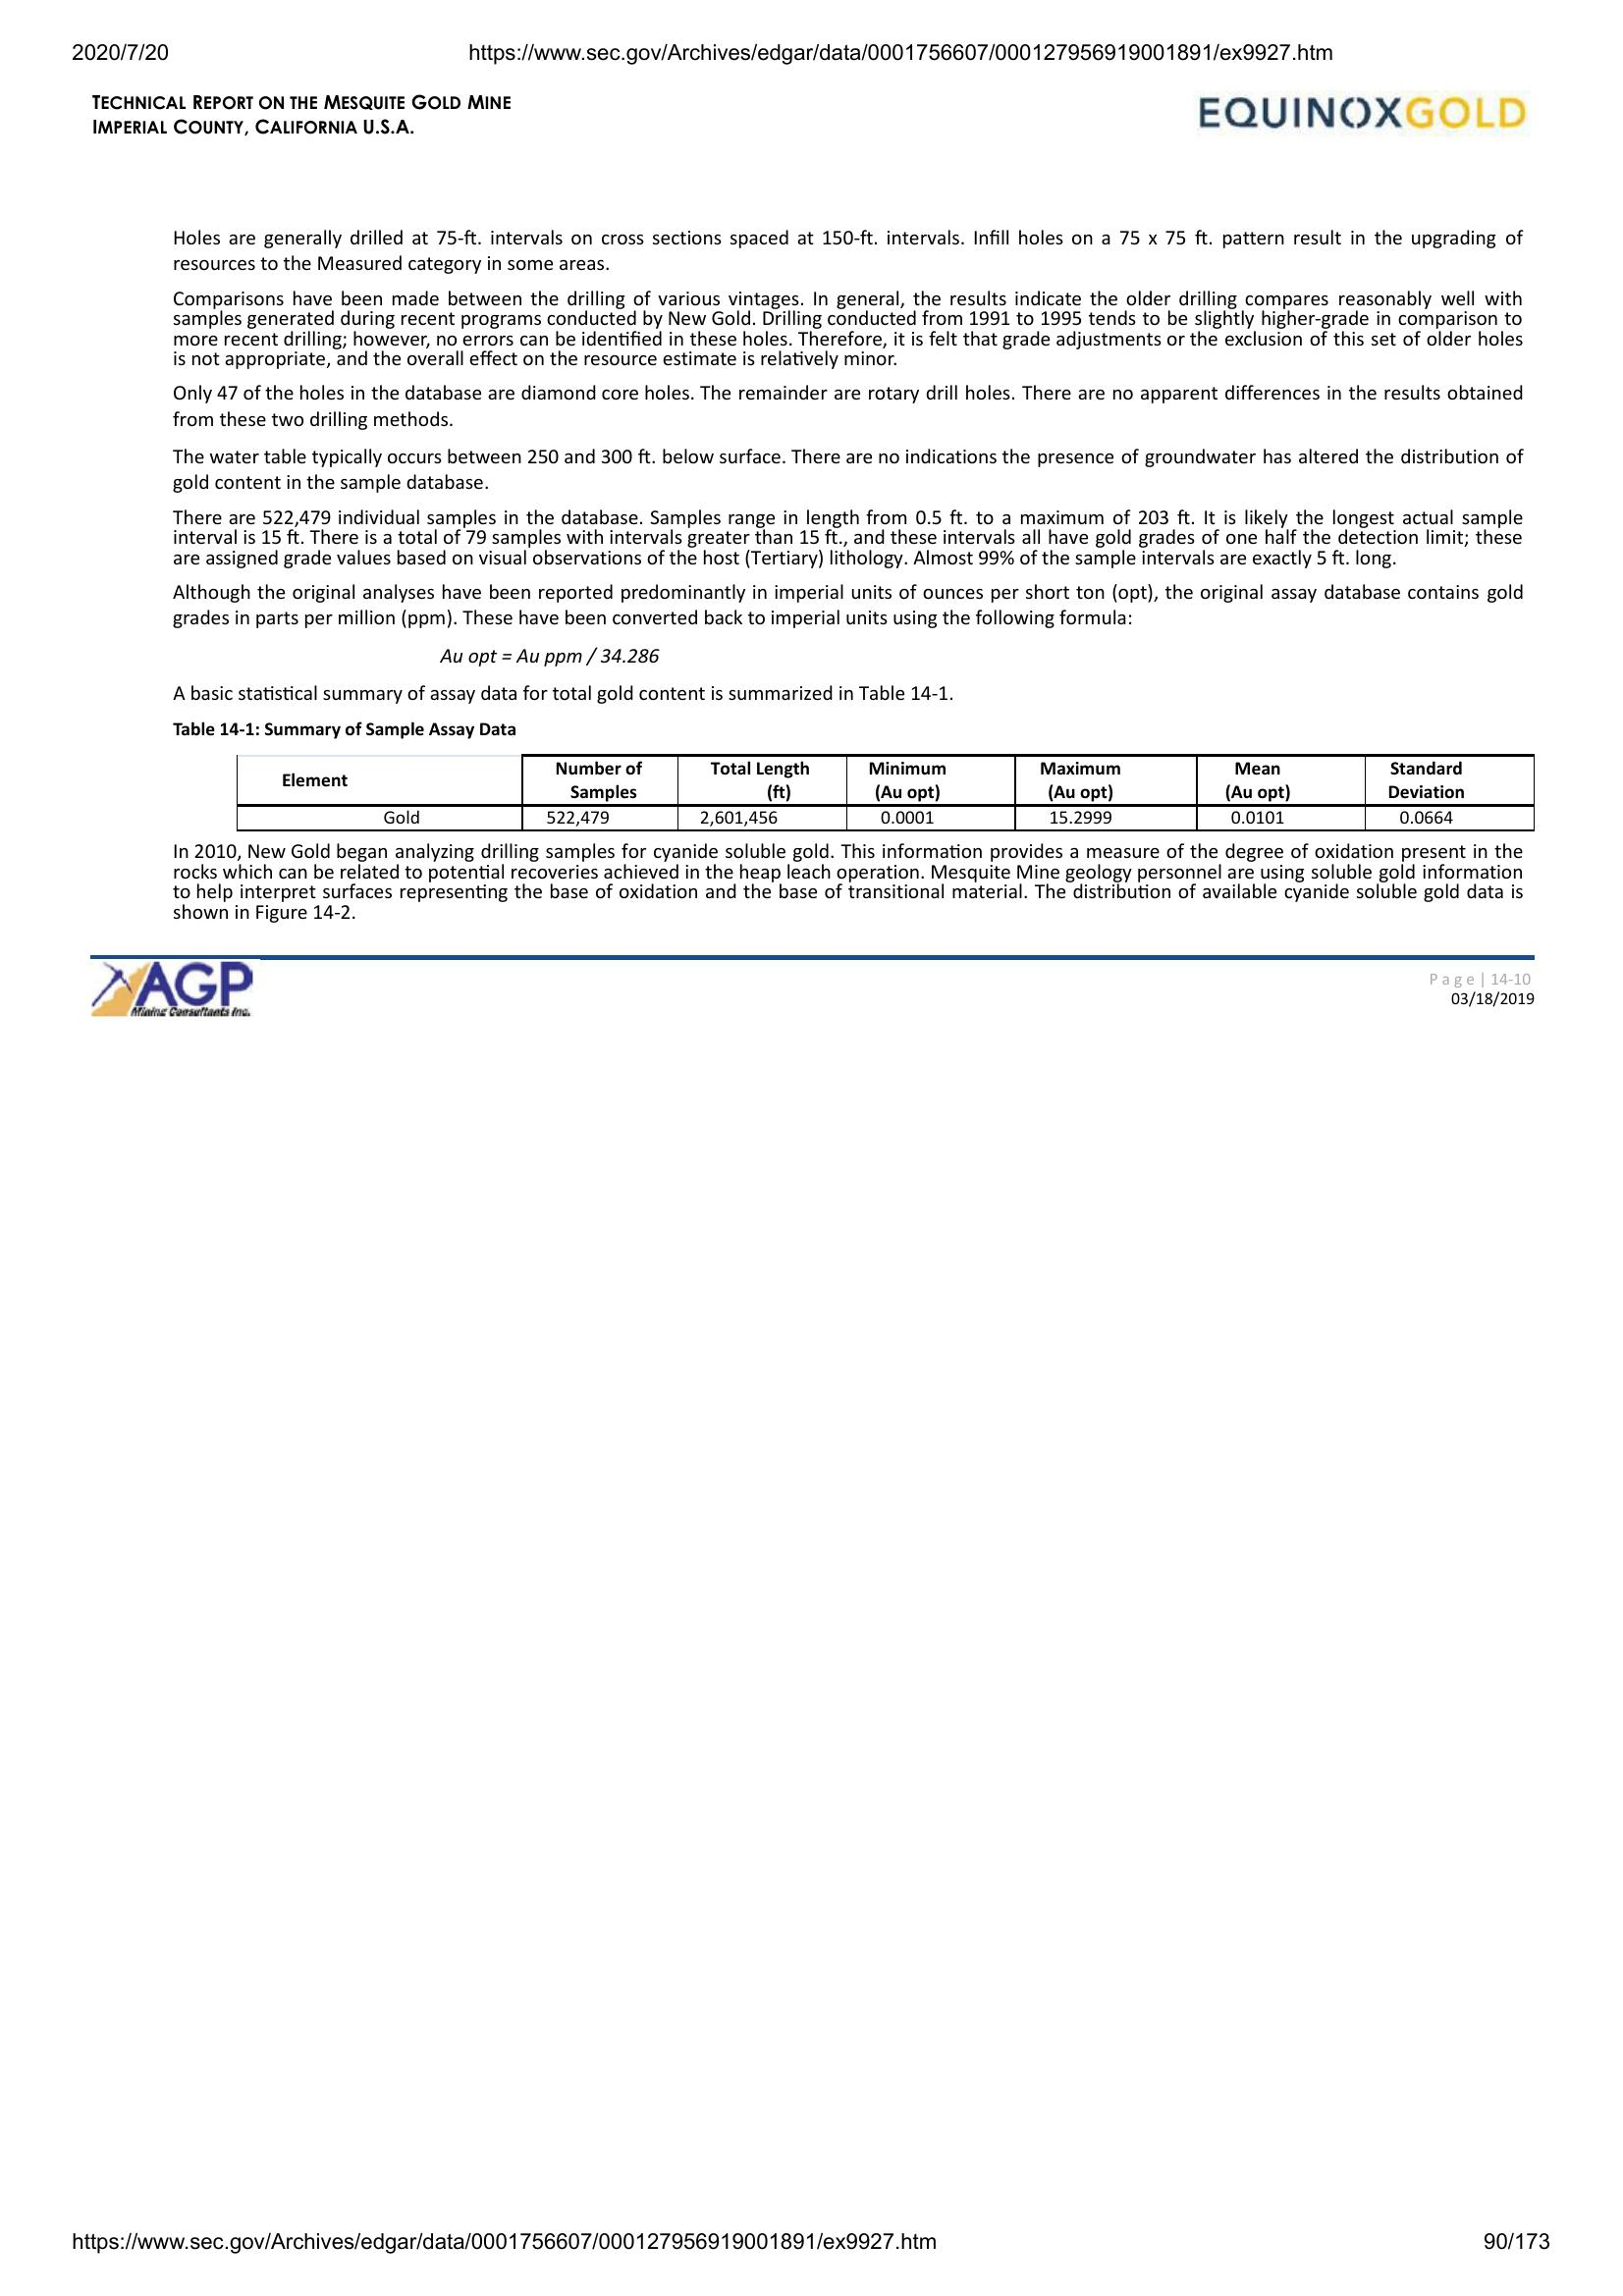table: (232, 744, 1544, 841)
